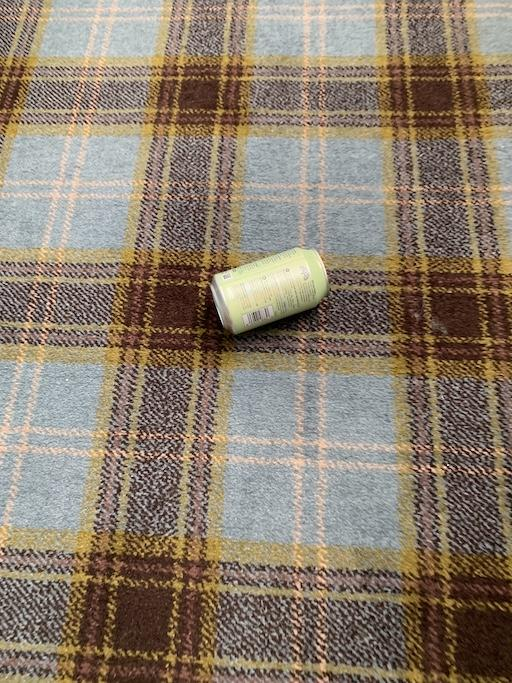Aluminum can: (184, 221, 393, 352)
